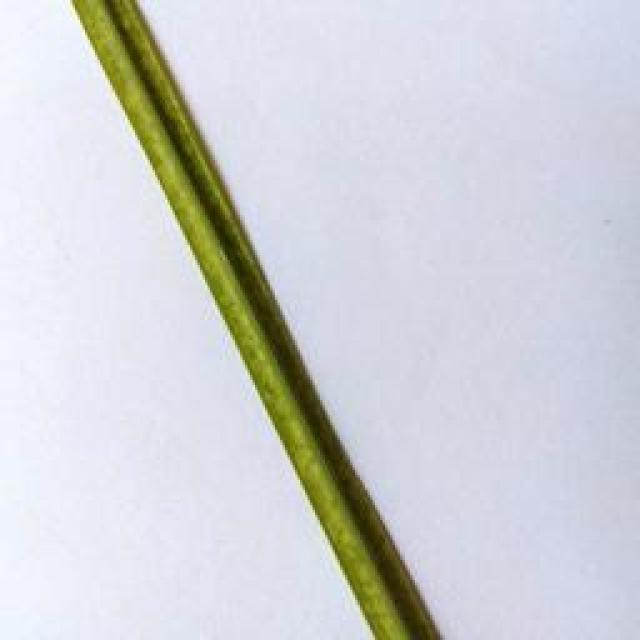Healthy-Plant: (71, 0, 436, 640)
